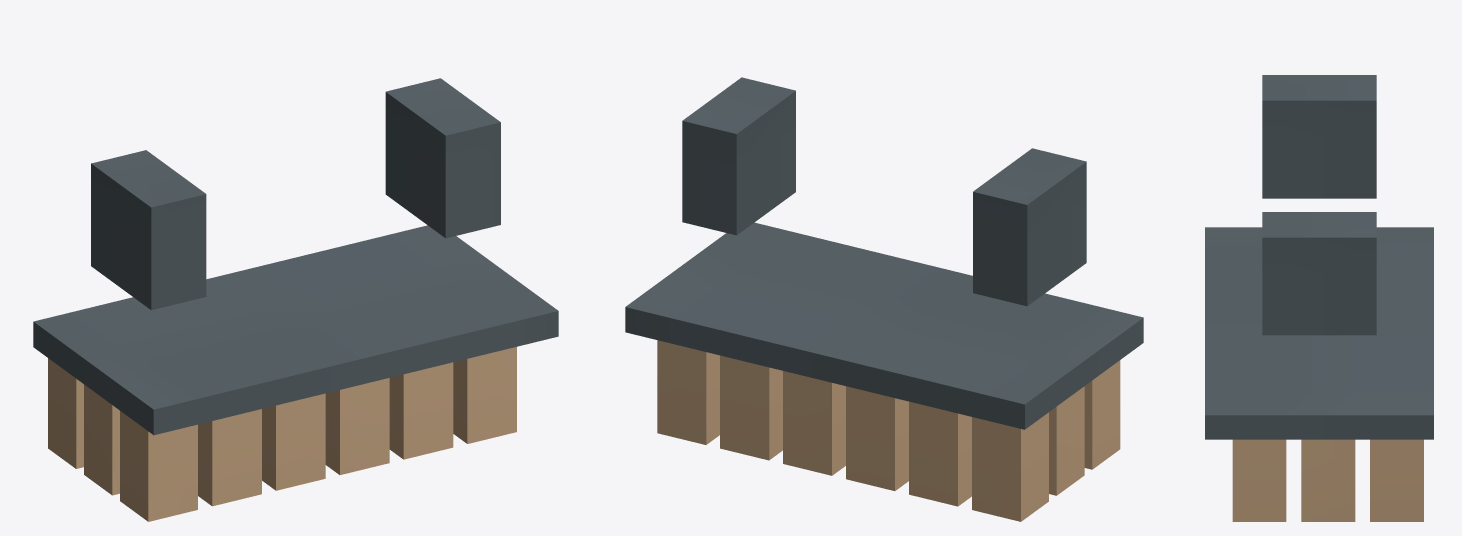
File: brush.obj
3 renders of one model, left to right at view 1: azimuth 30°, elevation 25°; view 2: azimuth 150°, elevation 25°; view 3: azimuth 270°, elevation 25°, orthographic. The views are drawn at different scales.
Parts seen in each view (by area): view 1: broad_wooden_brush_back_and_straw_bristle_bundle, raised_connected_palm_handle; view 2: broad_wooden_brush_back_and_straw_bristle_bundle, raised_connected_palm_handle; view 3: broad_wooden_brush_back_and_straw_bristle_bundle, raised_connected_palm_handle.
Boxes of the visible parts, left/top/right/bottom form: broad_wooden_brush_back_and_straw_bristle_bundle: left=33, top=225, right=558, bottom=521; raised_connected_palm_handle: left=91, top=78, right=500, bottom=310; broad_wooden_brush_back_and_straw_bristle_bundle: left=625, top=222, right=1143, bottom=521; raised_connected_palm_handle: left=682, top=77, right=1086, bottom=306; broad_wooden_brush_back_and_straw_bristle_bundle: left=1205, top=227, right=1433, bottom=521; raised_connected_palm_handle: left=1262, top=75, right=1376, bottom=335.
Bounding box in the file's own units: 0.4375 × 0.3531 × 0.2375.
